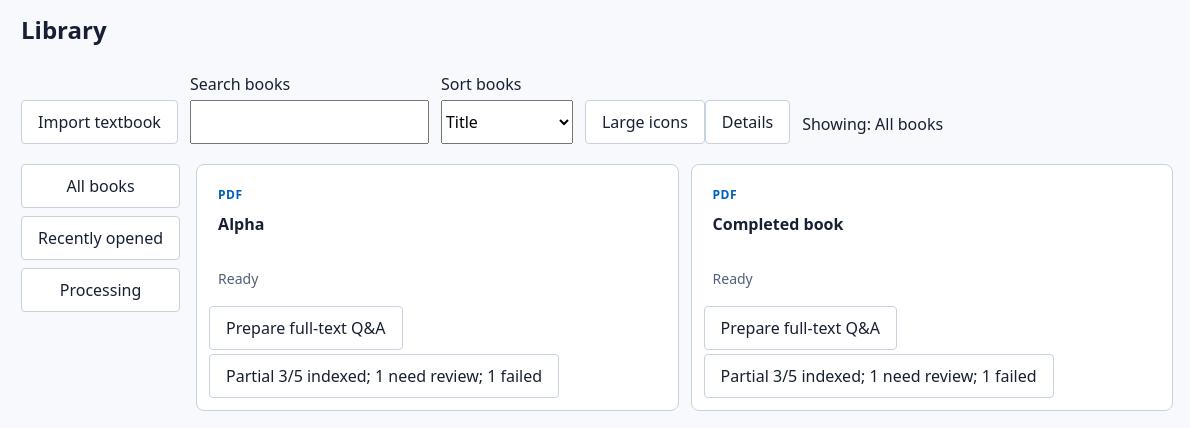
Scenario: library context menu › places ready books with unfinished AI index runs in Processing
Expected: the button "PDF Alpha Ready" is shown, [209,177,666,298]
Click the button "Processing". click: coordinates (101, 290)
box: [21,268,180,312]
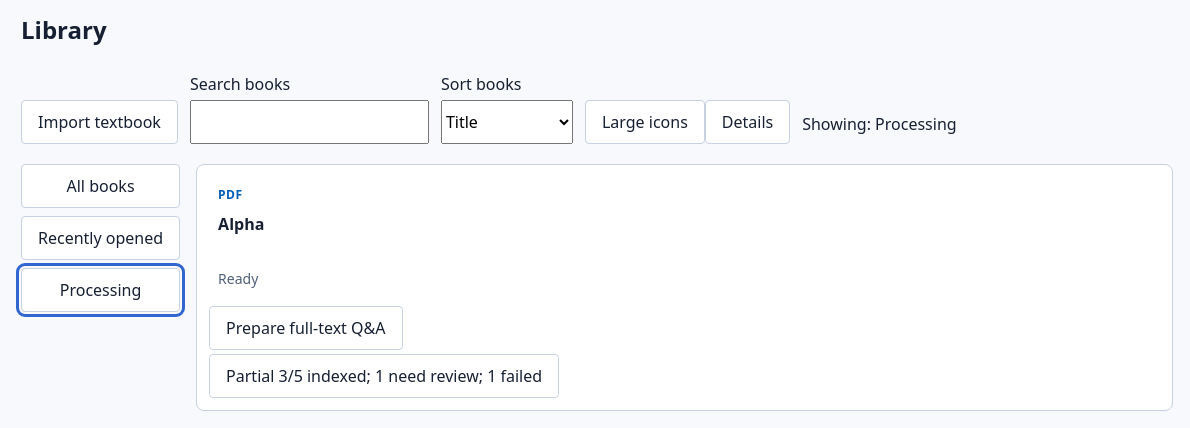
Expected: the button "PDF Alpha Ready" is shown, [209,177,1160,298]
Result: the button "Completed book" is gone
